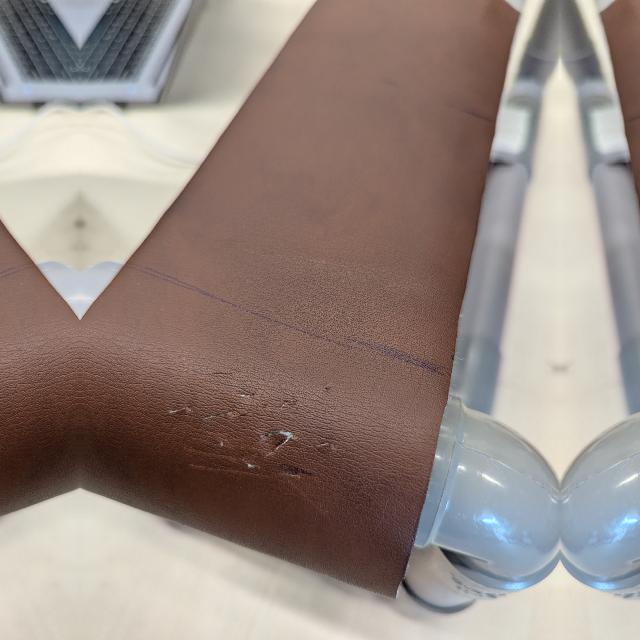belt_crack: (142, 347, 381, 513), (0, 347, 18, 513)
